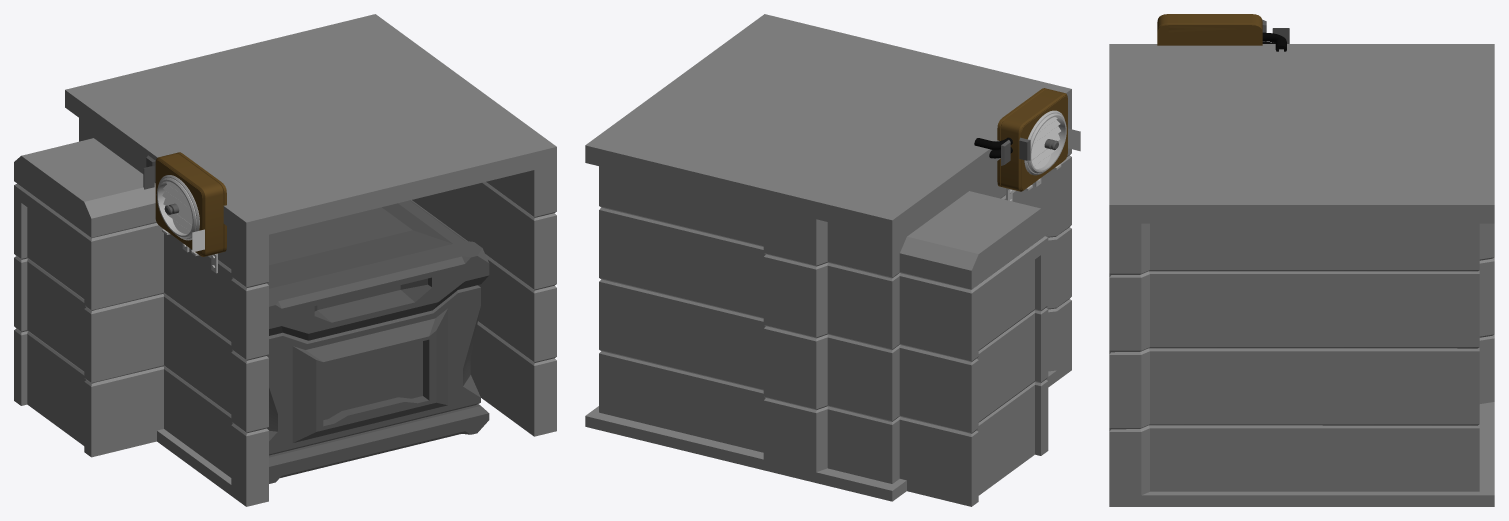
The model's file is shop 6.fbx.
3 views of the same model, side by side, from view 1: azimuth 30°, elevation 25°; view 2: azimuth 150°, elevation 25°; view 3: azimuth 270°, elevation 25° (orthographic). The views are drawn at different scales.
Visible parts, largest first — view 1: Desirefx.me_CyberShop_VideoTech_Concrete, Desirefx.me_CyberAcc_Crate_PaintBlack, Desirefx.me_CyberAcc_AC_B_PaintWhiteRusty, Desirefx.me_CyberAcc_AC_B_SteelRaw; view 2: Desirefx.me_CyberShop_VideoTech_Concrete, Desirefx.me_CyberAcc_AC_B_PaintWhiteRusty, Desirefx.me_CyberAcc_AC_B_SteelRaw, Desirefx.me_CyberAcc_AC_B_PaintBlack; view 3: Desirefx.me_CyberShop_VideoTech_Concrete, Desirefx.me_CyberAcc_AC_B_PaintWhiteRusty.
Boxes of the visible parts, x1,y1,x2,y2 form: Desirefx.me_CyberShop_VideoTech_Concrete: (14, 14, 556, 506); Desirefx.me_CyberAcc_Crate_PaintBlack: (267, 200, 489, 483); Desirefx.me_CyberAcc_AC_B_PaintWhiteRusty: (155, 152, 226, 256); Desirefx.me_CyberAcc_AC_B_SteelRaw: (156, 175, 217, 273); Desirefx.me_CyberShop_VideoTech_Concrete: (585, 14, 1071, 506); Desirefx.me_CyberAcc_AC_B_PaintWhiteRusty: (997, 88, 1067, 191); Desirefx.me_CyberAcc_AC_B_SteelRaw: (1006, 110, 1066, 201); Desirefx.me_CyberAcc_AC_B_PaintBlack: (1001, 137, 1058, 165); Desirefx.me_CyberShop_VideoTech_Concrete: (1109, 44, 1494, 506); Desirefx.me_CyberAcc_AC_B_PaintWhiteRusty: (1157, 14, 1262, 45).
Size of the model in its own units: 10.32 by 8.12 by 8.63.
